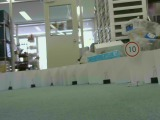speed_10: (123, 41, 140, 57)
